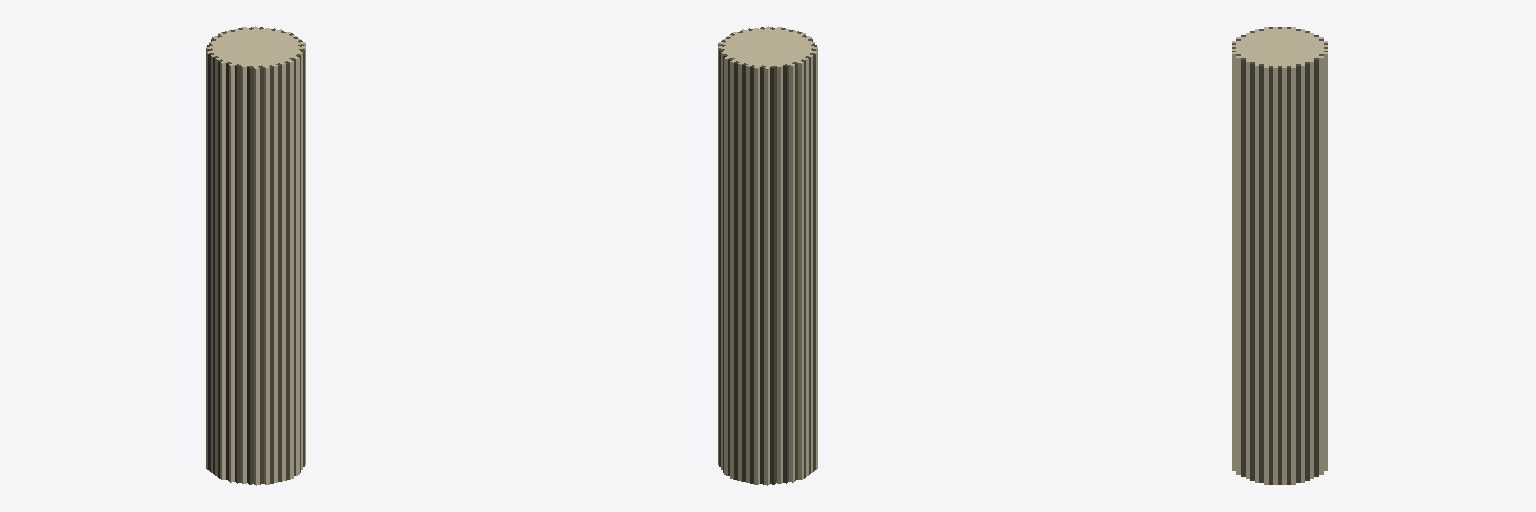
3 views of the same model, side by side, from view 1: azimuth 30°, elevation 25°; view 2: azimuth 150°, elevation 25°; view 3: azimuth 270°, elevation 25° (orthographic).
Parts seen in each view (by area): view 1: object 1; view 2: object 1; view 3: object 1.
Part boxes in pixels (bbox=[...]): object 1: bbox=[206, 26, 305, 485]; object 1: bbox=[718, 26, 817, 485]; object 1: bbox=[1232, 27, 1327, 484].
Bounding box in the file's own units: 2.1 × 10 × 2.1.
1 materials, 1 textured.